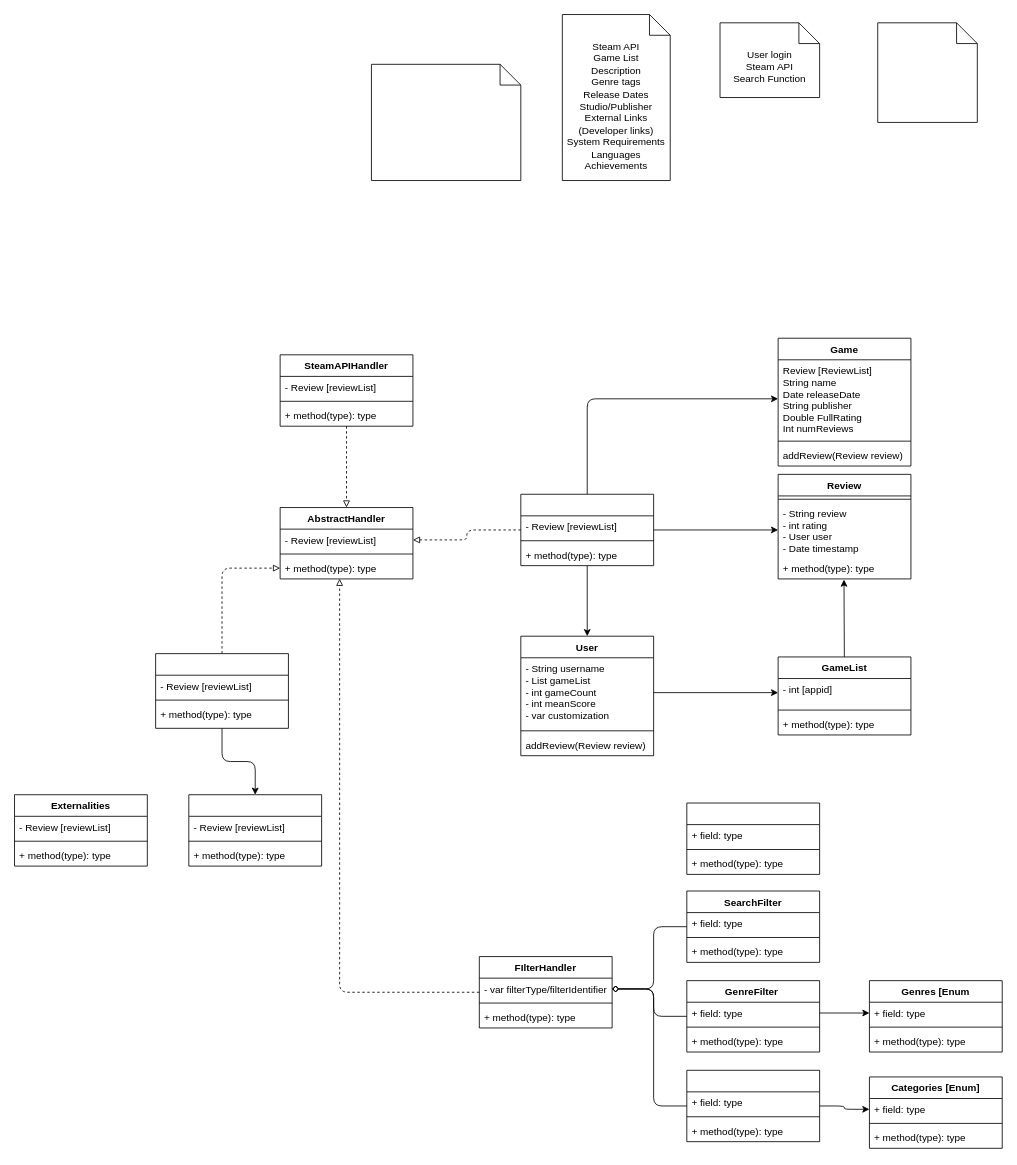
The diagram is 1017 pixels wide and 1165 high, and some of its shapes have lost their labels. Here are the shapes that lost their labels. From the top down, the box of each, then its label:
(877, 22, 977, 122): Filters Through database For genre, dates, Builder pattern
(371, 63, 521, 181): Classes User List Game Review Genre (Enum) Publisher -> Studio -> Games
(520, 493, 654, 566): ReviewHandler
(155, 653, 288, 728): UserHandler
(188, 794, 322, 866): UserChange
(686, 802, 820, 874): DateFIlter [Date]
(686, 1069, 820, 1142): CategoryFilter
